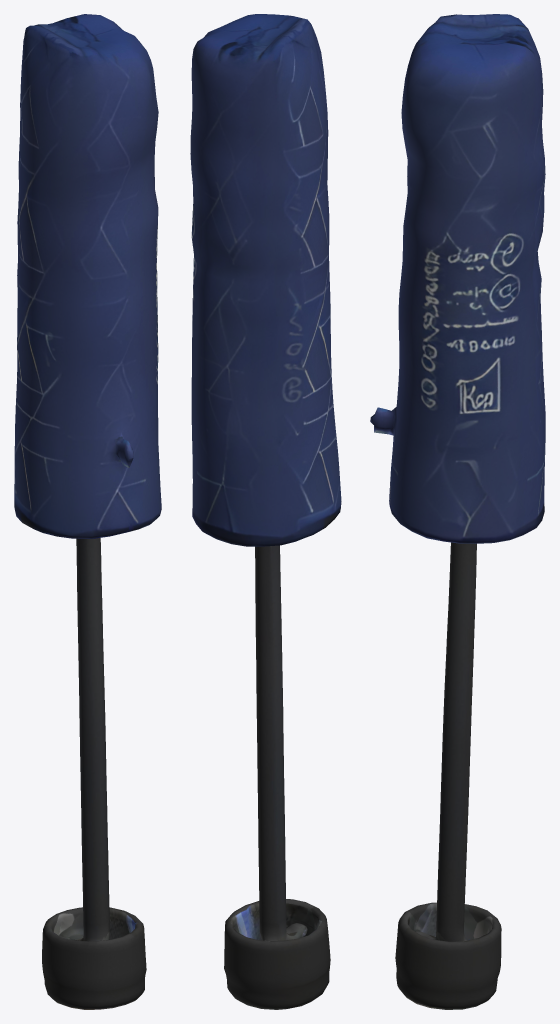
The model's file is UT2_Umbrella.fbx.
3 renders of one model, left to right at view 1: azimuth 30°, elevation 25°; view 2: azimuth 150°, elevation 25°; view 3: azimuth 270°, elevation 25°, orthographic. The views are drawn at different scales.
Visible parts, largest first — view 1: tripo_node_5a06674c, tripo_node_5a06674c.001; view 2: tripo_node_5a06674c, tripo_node_5a06674c.001; view 3: tripo_node_5a06674c, tripo_node_5a06674c.001.
Part boxes in pixels (x1=…): tripo_node_5a06674c: x1=14, y1=14, x2=161, y2=538; tripo_node_5a06674c.001: x1=42, y1=538, x2=146, y2=1009; tripo_node_5a06674c: x1=190, y1=14, x2=341, y2=546; tripo_node_5a06674c.001: x1=224, y1=545, x2=330, y2=1009; tripo_node_5a06674c: x1=370, y1=14, x2=545, y2=543; tripo_node_5a06674c.001: x1=395, y1=542, x2=501, y2=1009.
Bounding box in the file's own units: 0.1206 × 0.8937 × 0.1474.
1 material, 1 textured.
